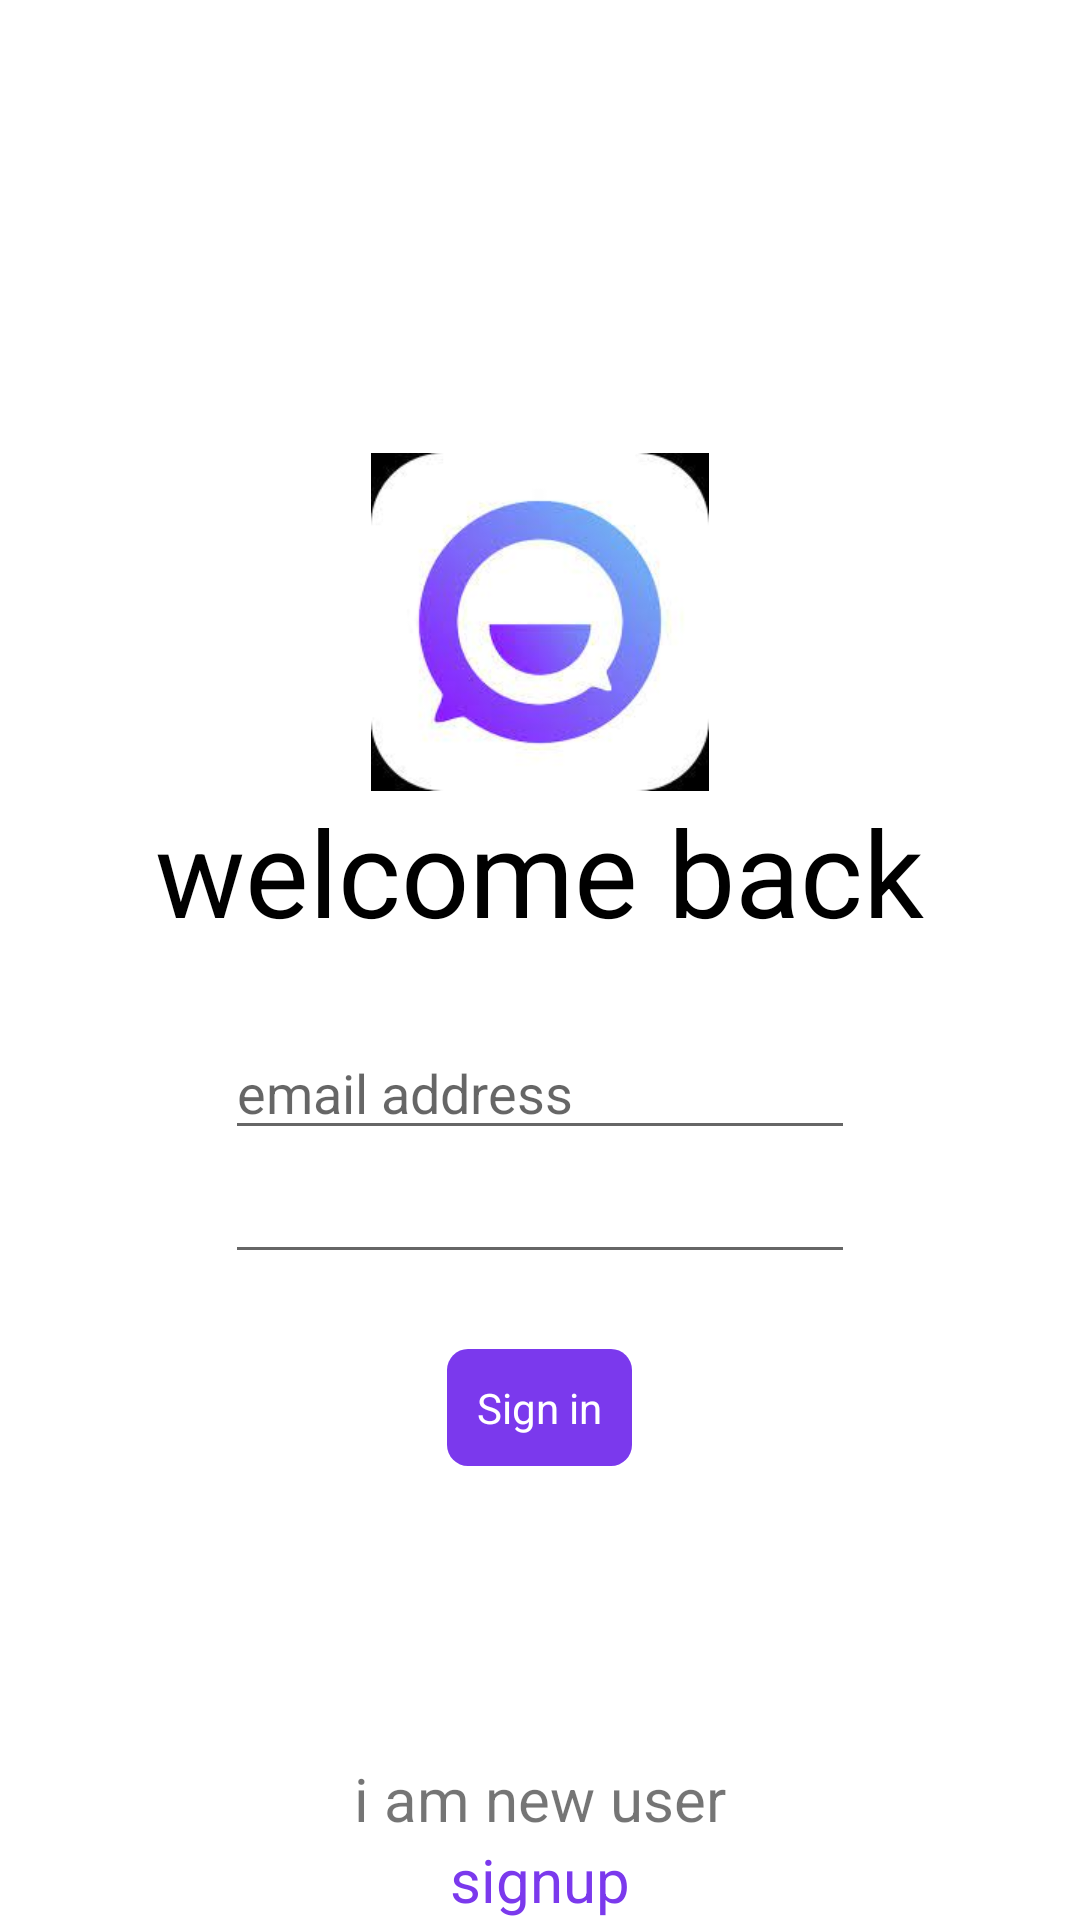

Screen size 1080 × 1920. Icon name, then its box in pixels as (x1, y1, x2, y2):
chat: (371, 453, 709, 791)
